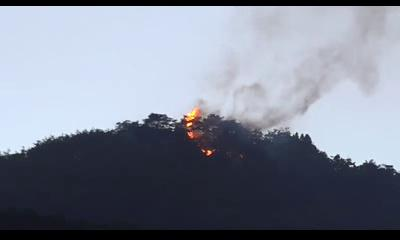fire: (187, 110, 198, 127)
smoke: (200, 6, 396, 116)
